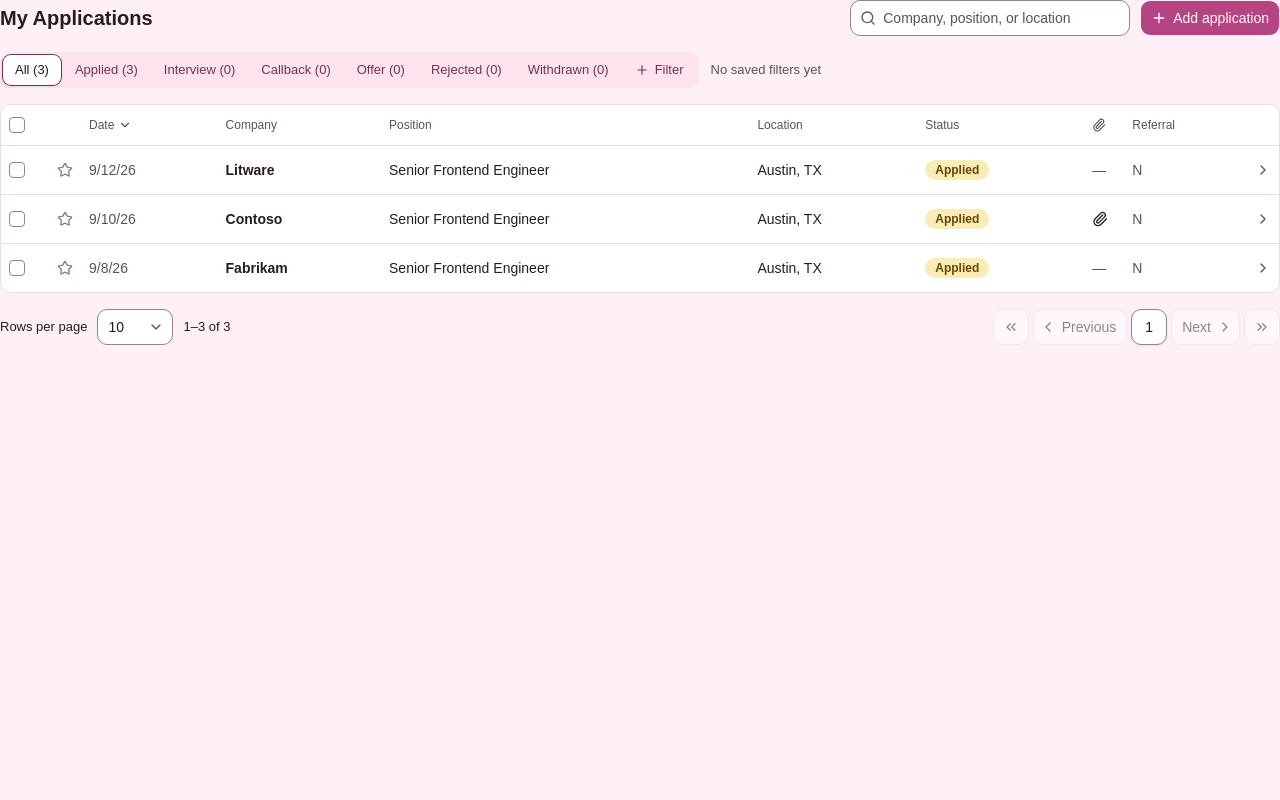
Test: bulk delete › stops at a failure, says where, keeps the rest selected, and confirming again carries on
Click the checkbox named "Select all applications" at (17, 125), box [9,117,25,133]
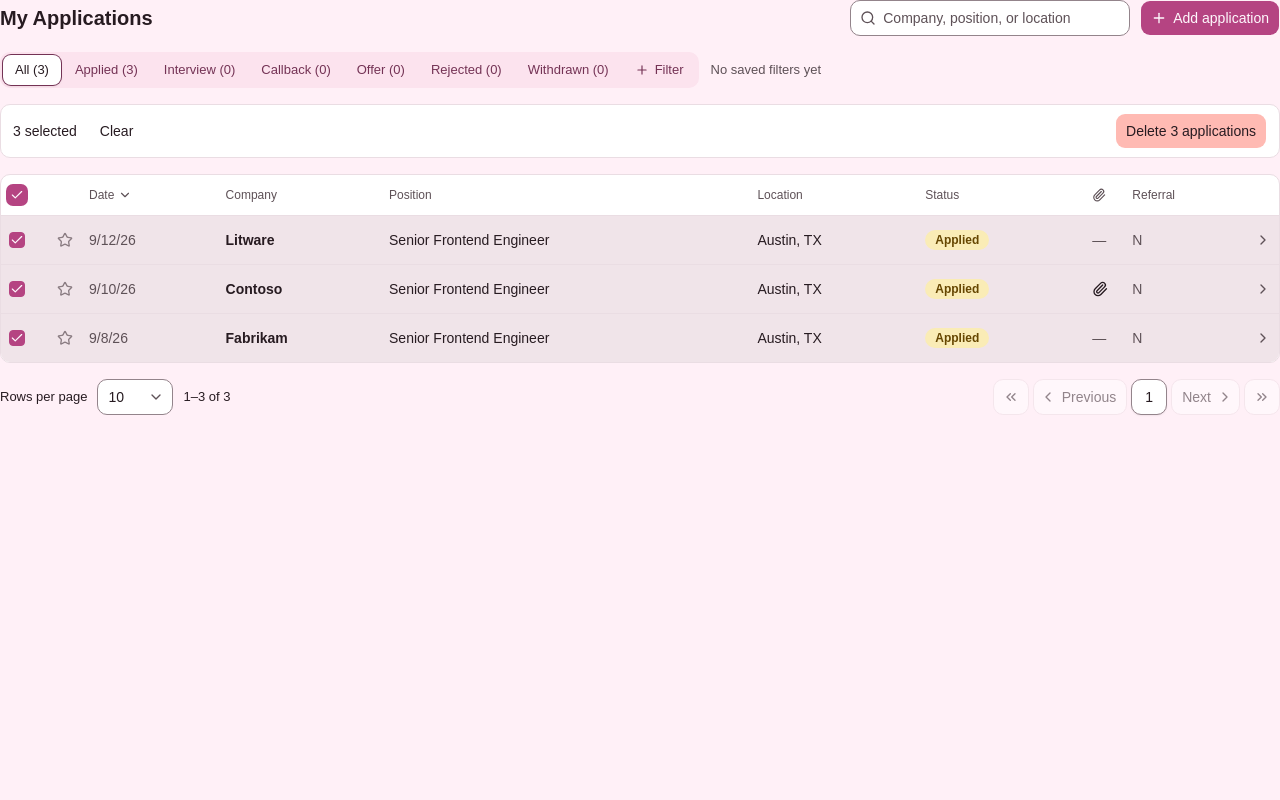
Click the button "Delete 3 applications" at (1191, 131), box [1115,113,1267,149]
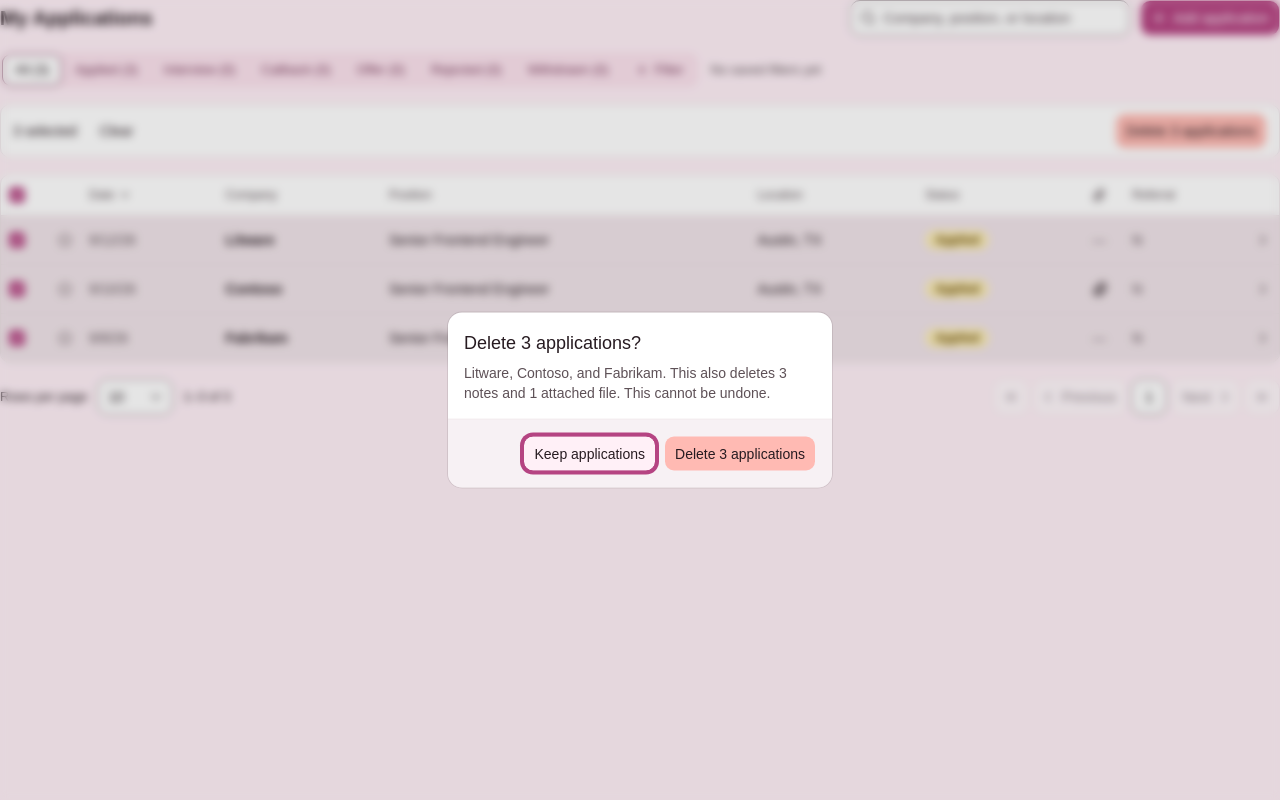
Expected: the button "Delete 3 applications" is enabled
Click the button "Delete 3 applications" at (740, 454), box [664,436,816,472]
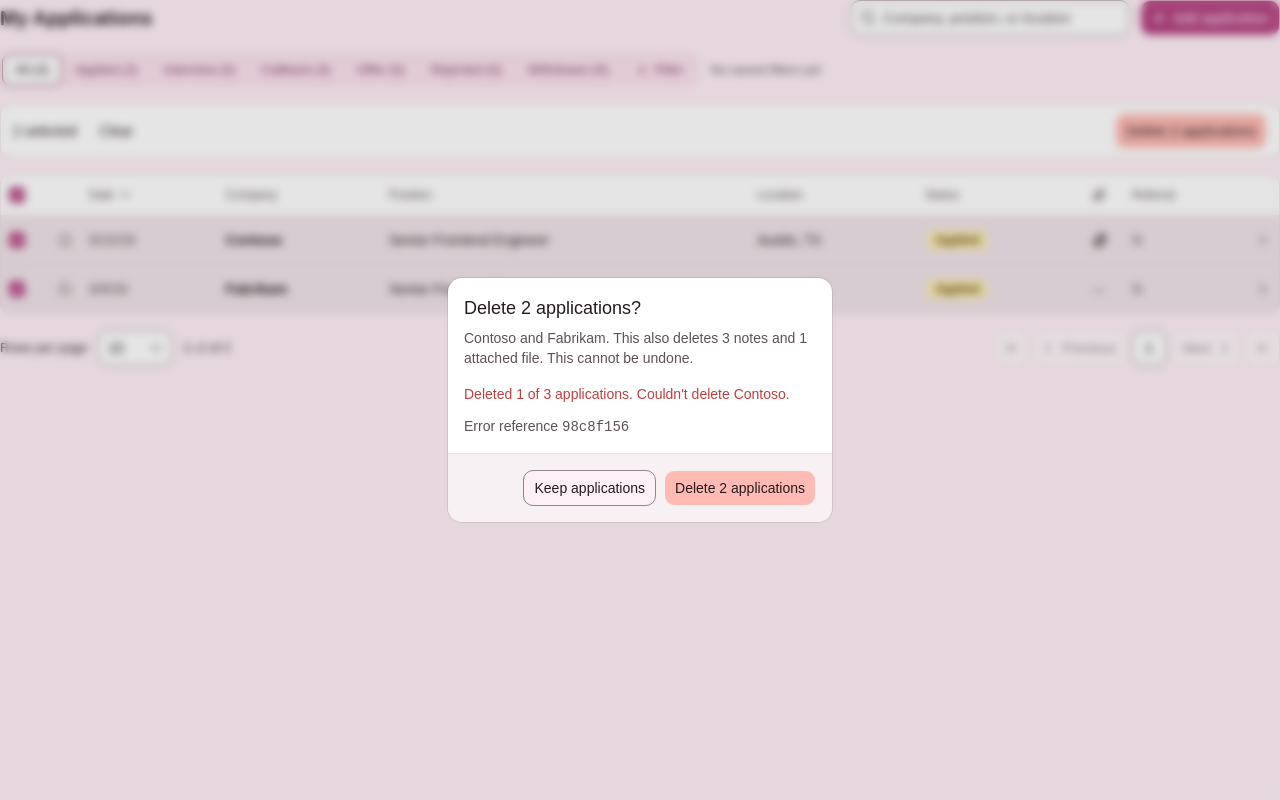
Expected: the message shows "Deleted 1 of 3 applications. Couldn't delete Contoso.", [464,386,790,402]
Expected: the message reads "Deleted 1 of 3 applications. Couldn't delete Contoso. Error reference 98c8f156", [464,384,816,437]
Expected: the heading "Delete 2 applications?" is shown, [464,294,641,322]
Click the button "Delete 2 applications" at (740, 488), box [664,470,816,506]
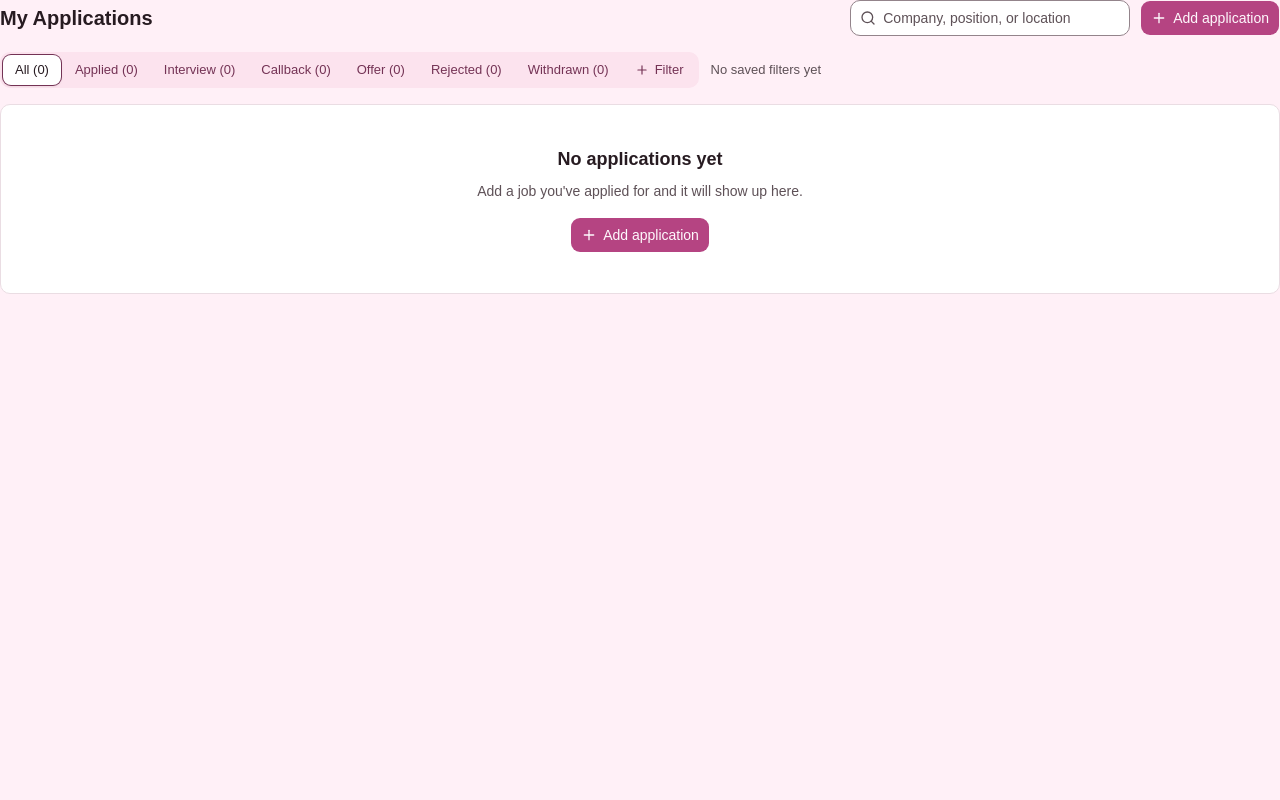
Expected: the dialog is gone
